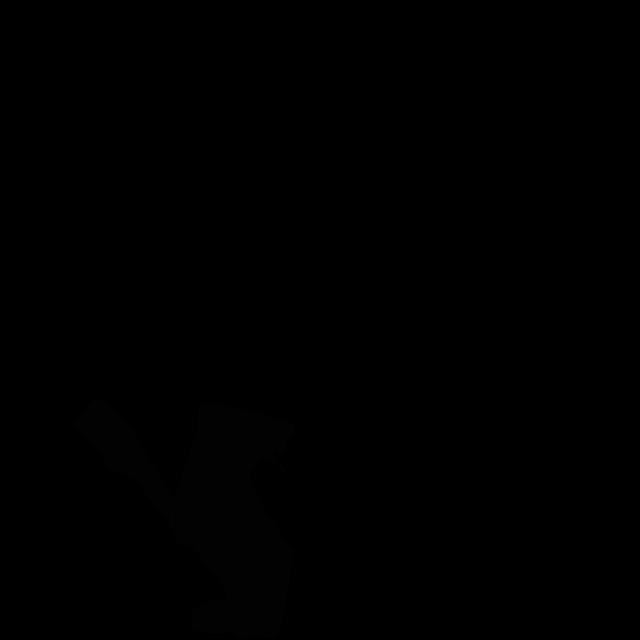cardboard: (174, 401, 296, 640), (72, 398, 176, 535)
